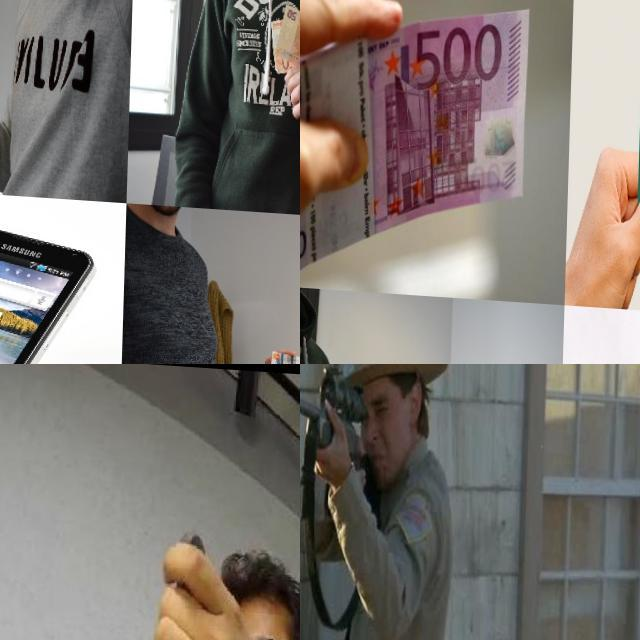gun-knife-thesis - v11 Yolov5 augmented: (300, 364, 389, 546)
